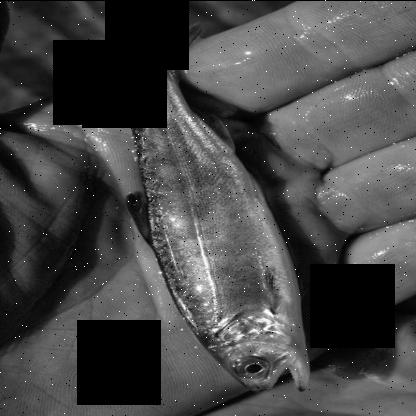fish: (98, 18, 310, 394)
